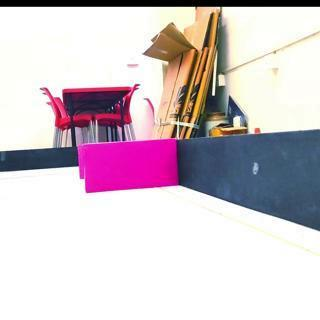xparking: (76, 137, 178, 194)
